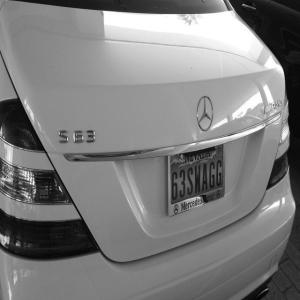Plate: (168, 144, 225, 216)
